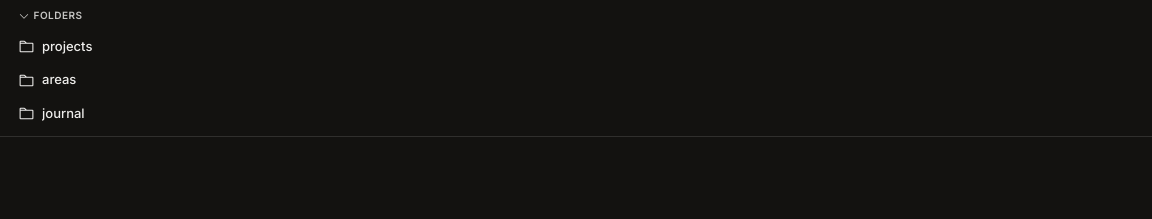
Scenario: FolderTree › expands children when clicking a folder row
Expected: the text "alpha" is not shown
Step 1. Click the button with test id "folder-row:projects" → click(67, 46), box left=6, top=31, right=1146, bottom=62
Wait 180 ms
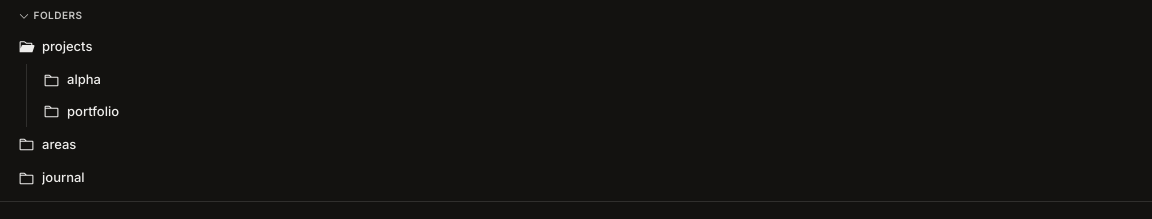
Result: the text "alpha" is shown at left=67, top=70, right=101, bottom=90
Result: the text "portfolio" is shown at left=67, top=102, right=119, bottom=121
